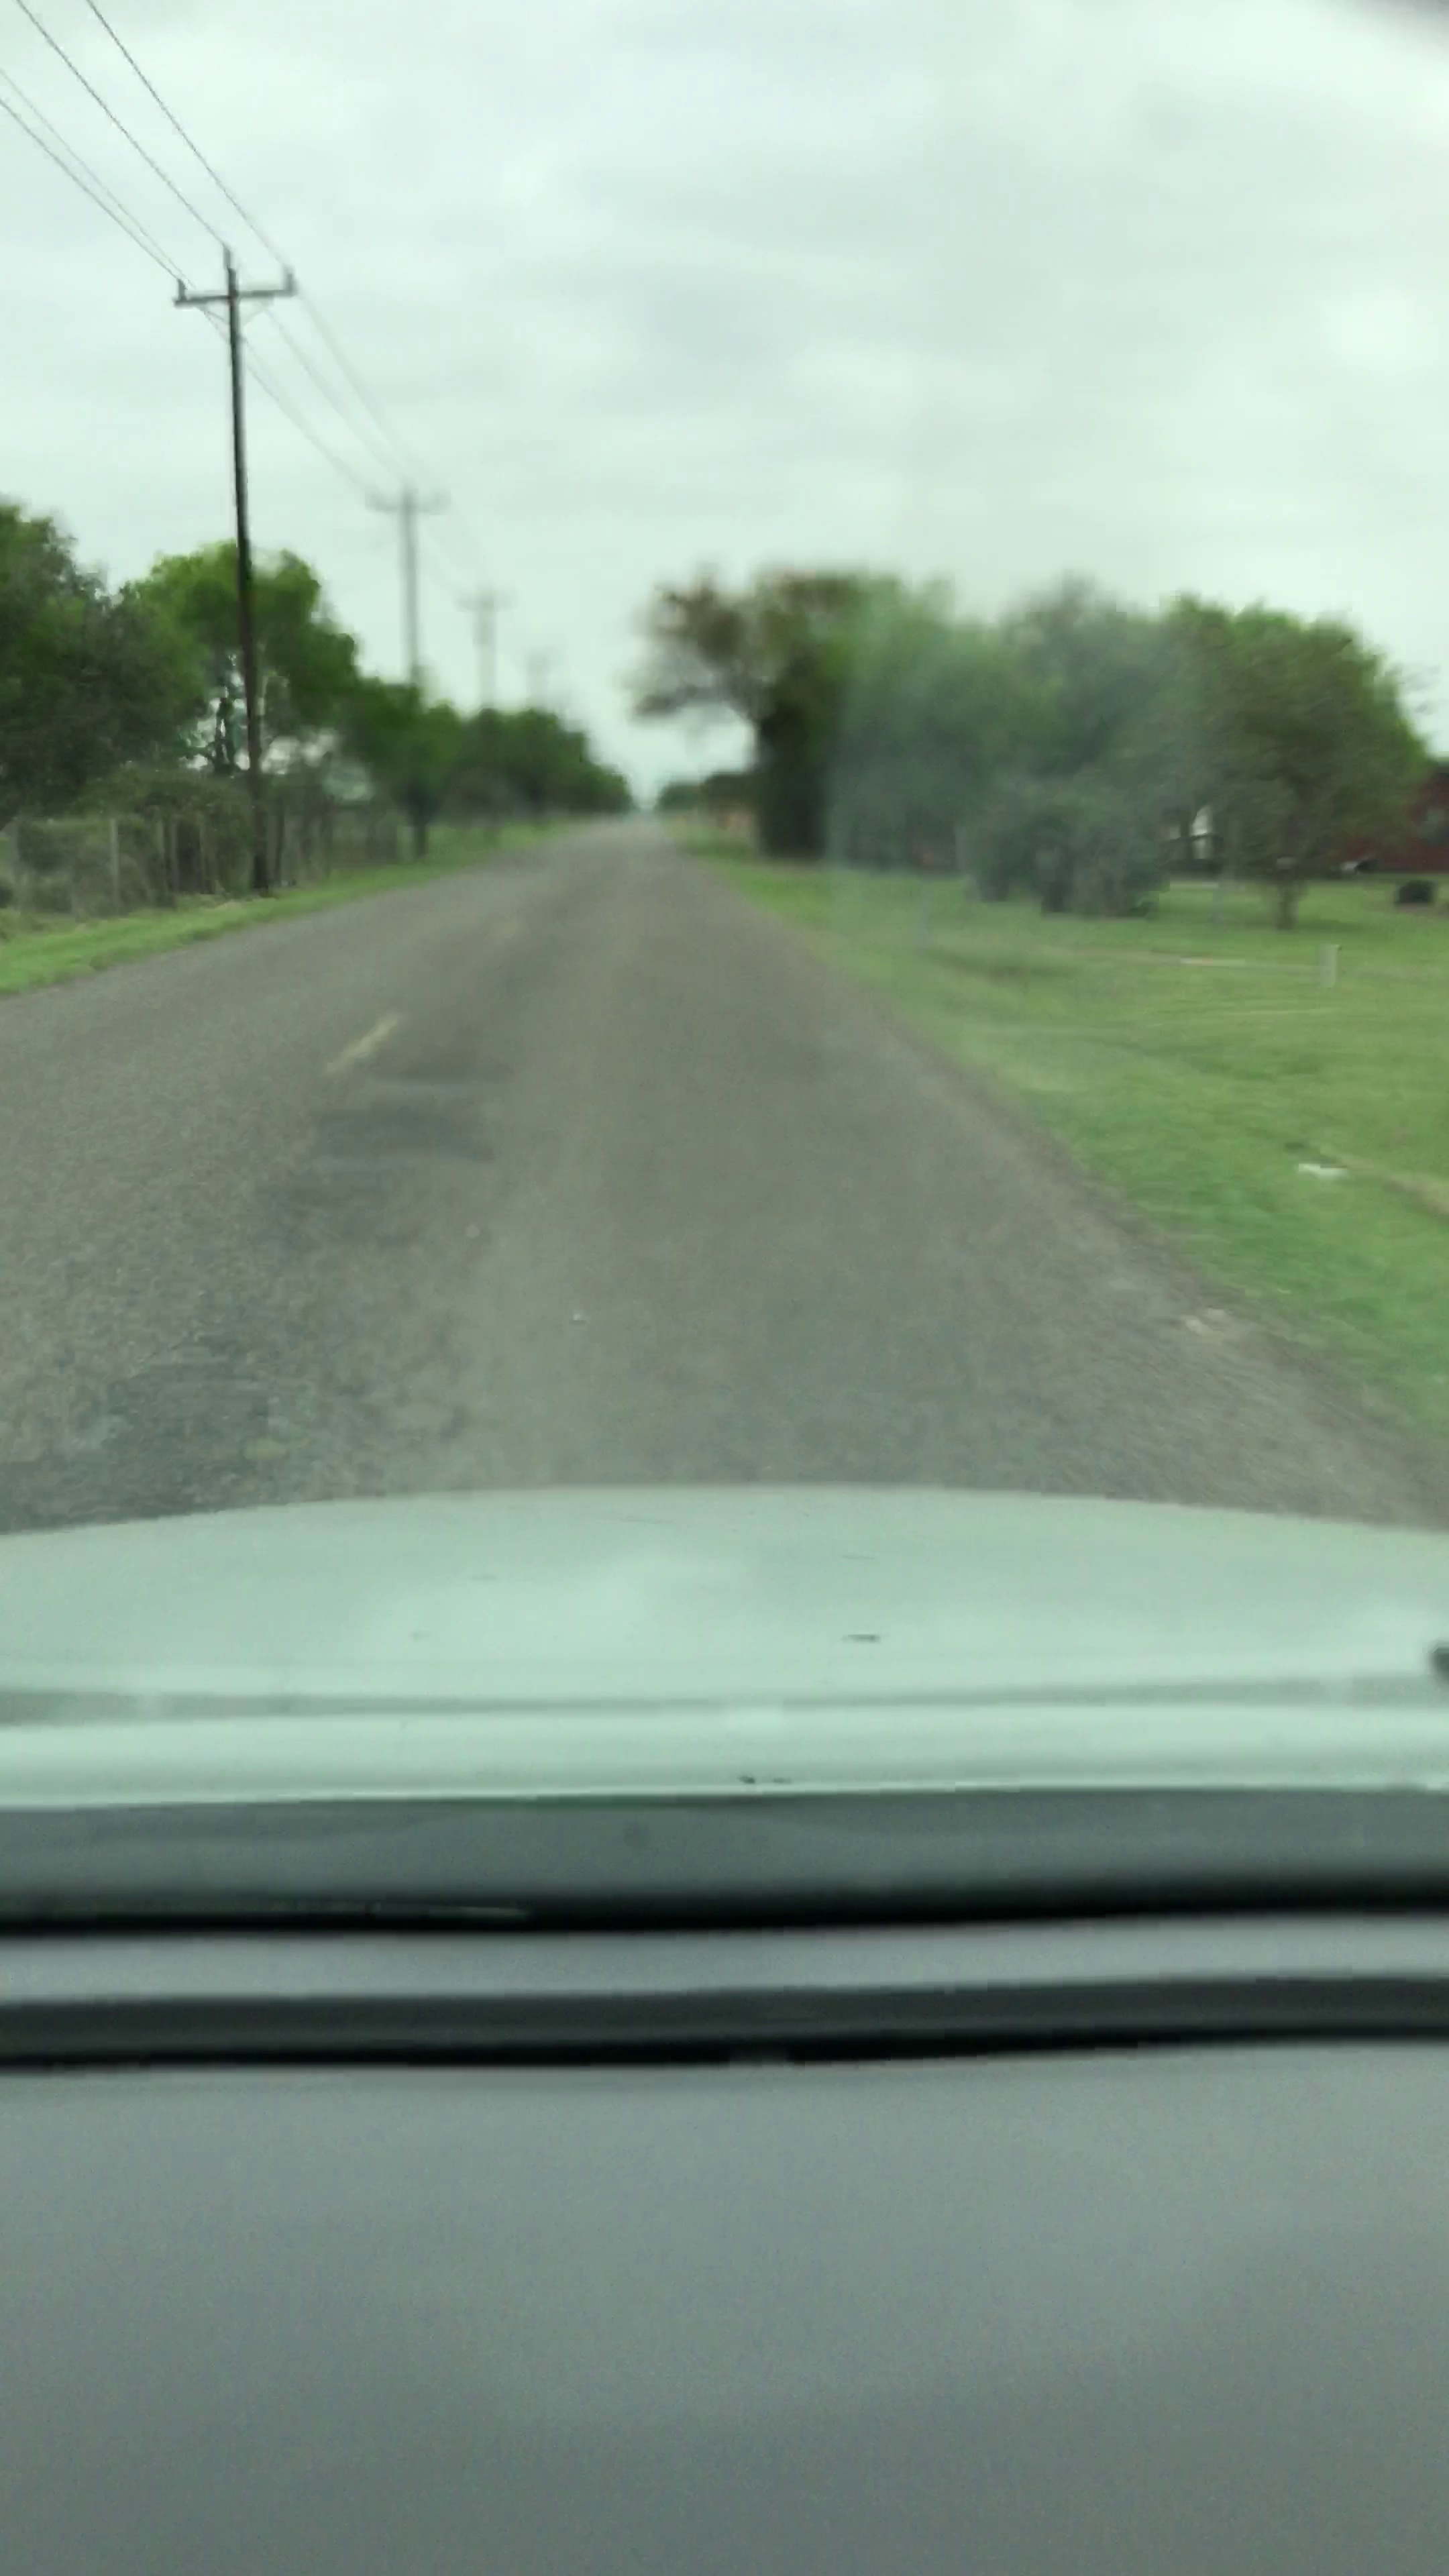blurredLine: (315, 1000, 423, 1104)
